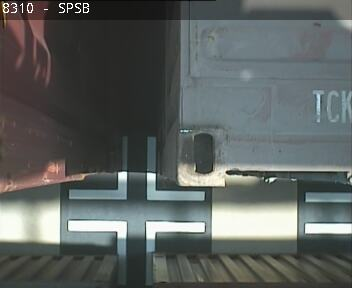groundmarker_1: (66, 138, 206, 200), (66, 219, 205, 281)
